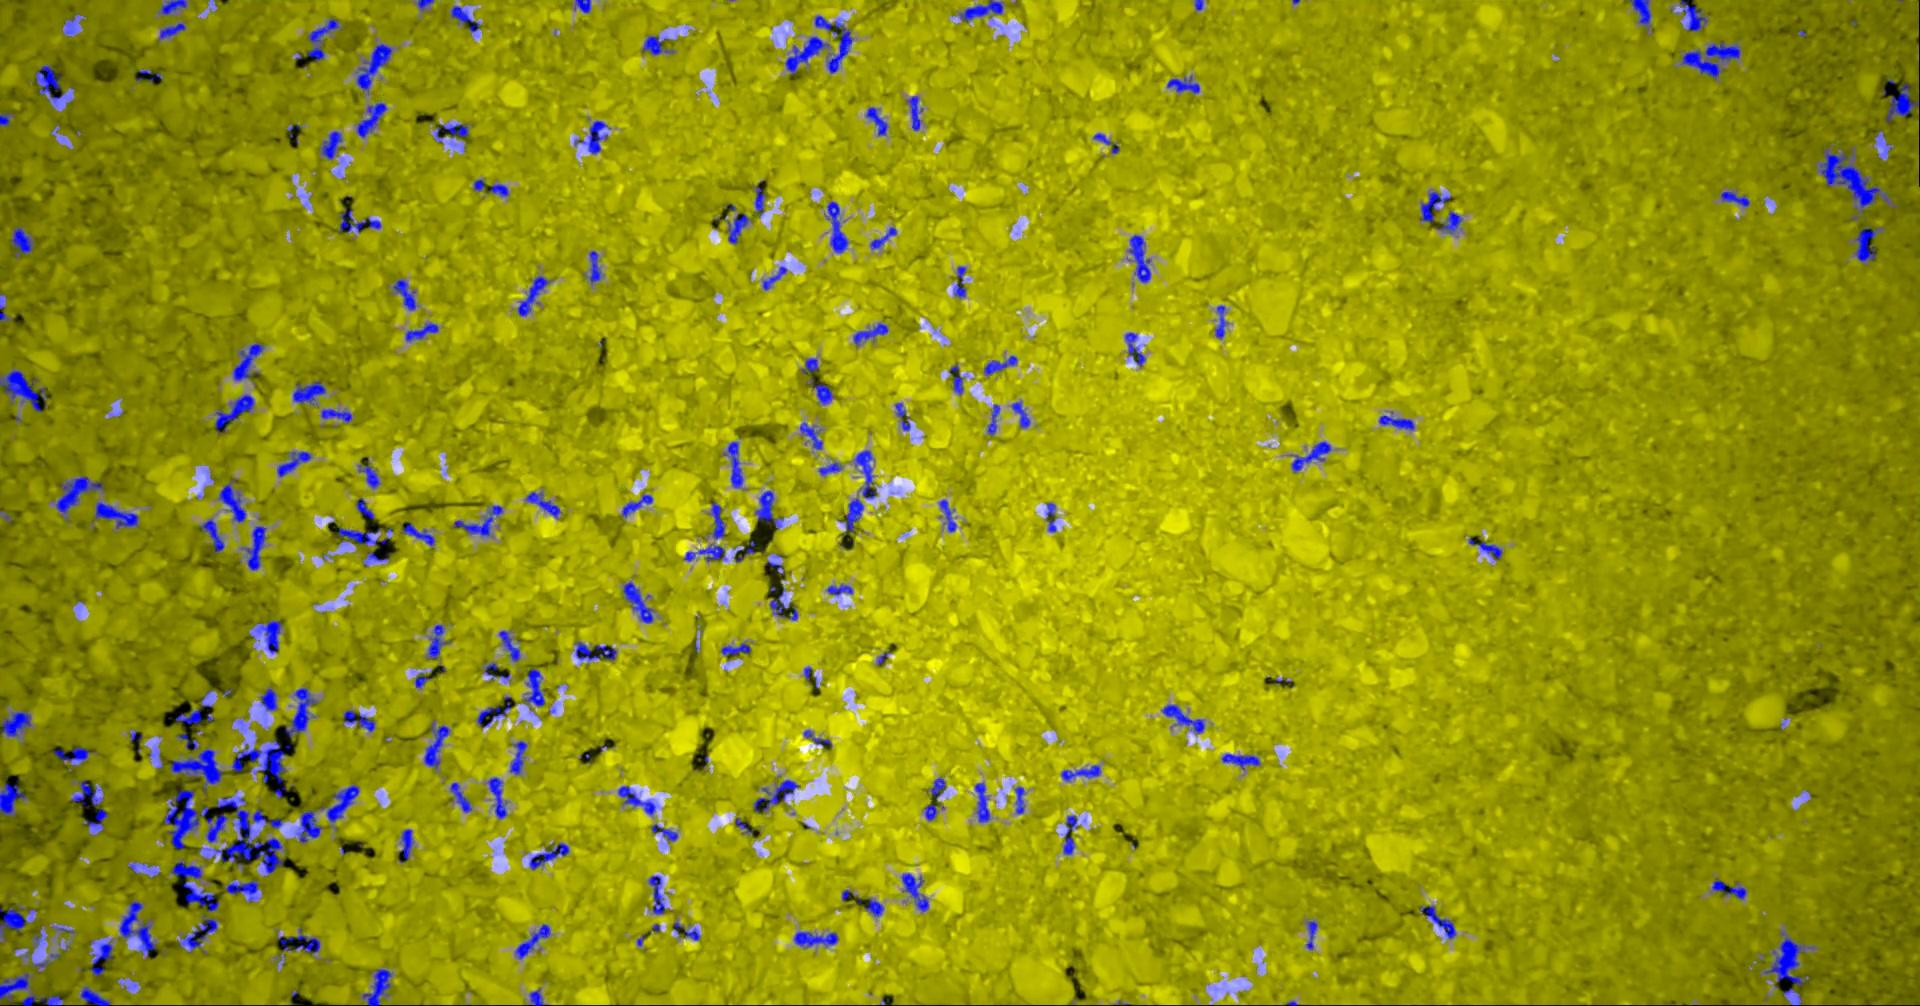ant: (231, 739, 290, 798), (170, 860, 218, 911), (1763, 936, 1813, 984), (169, 748, 222, 793), (1679, 41, 1740, 79), (814, 15, 852, 72), (119, 901, 155, 956), (70, 780, 107, 832), (0, 370, 46, 412), (55, 475, 103, 514), (356, 43, 391, 94), (785, 36, 828, 74), (283, 687, 316, 737), (753, 779, 799, 812), (215, 394, 253, 433), (319, 784, 359, 821), (453, 506, 502, 536), (801, 357, 832, 404), (178, 915, 216, 951), (277, 927, 319, 960), (307, 17, 338, 61), (1884, 83, 1919, 121), (1161, 704, 1204, 733), (517, 276, 549, 315), (94, 500, 138, 528), (622, 582, 653, 622), (423, 723, 450, 768), (1418, 904, 1455, 937), (574, 119, 610, 152), (1291, 441, 1330, 471), (240, 525, 265, 570), (218, 479, 245, 522), (516, 923, 549, 958), (232, 343, 263, 380), (361, 968, 391, 1005), (34, 64, 63, 102), (617, 785, 655, 814), (1128, 234, 1150, 282), (825, 201, 847, 251), (356, 102, 386, 137), (338, 207, 380, 232), (754, 490, 782, 528), (1418, 191, 1451, 222), (476, 696, 510, 727), (855, 450, 876, 498), (530, 842, 568, 869), (902, 873, 928, 911), (1854, 226, 1883, 260), (957, 0, 1002, 22), (770, 586, 797, 620), (337, 526, 386, 545), (276, 451, 311, 476), (524, 492, 560, 517), (924, 777, 945, 821), (723, 441, 742, 486), (839, 498, 863, 533), (0, 972, 29, 1001), (296, 810, 323, 842), (0, 782, 25, 815), (0, 906, 25, 939), (199, 518, 223, 553), (427, 624, 451, 658), (89, 941, 113, 976), (523, 668, 545, 706), (1679, 0, 1705, 30), (574, 641, 616, 661), (257, 620, 281, 653), (853, 323, 888, 345), (450, 5, 480, 30), (0, 710, 30, 735), (223, 879, 259, 901), (292, 380, 325, 403), (401, 522, 434, 545), (52, 747, 94, 765), (683, 544, 724, 561), (488, 777, 505, 818), (1710, 879, 1746, 899), (1468, 537, 1501, 559), (1060, 763, 1100, 781), (648, 875, 665, 915), (10, 226, 33, 257), (392, 279, 415, 310), (1124, 332, 1144, 366), (621, 494, 651, 517), (792, 931, 837, 946), (865, 105, 888, 135), (728, 212, 749, 243), (498, 630, 519, 661), (343, 710, 375, 730), (320, 130, 342, 159), (450, 782, 471, 812), (436, 123, 469, 142), (983, 354, 1016, 373), (870, 226, 897, 249), (799, 422, 822, 448), (79, 986, 110, 1005), (974, 782, 989, 822), (358, 459, 378, 488), (1166, 75, 1199, 93), (405, 323, 438, 340), (762, 265, 786, 290), (1378, 415, 1415, 431), (1222, 753, 1258, 768), (643, 36, 672, 55), (1437, 210, 1462, 232), (1628, 0, 1650, 25), (509, 741, 526, 774), (1063, 815, 1077, 854), (22, 992, 63, 1005), (938, 499, 955, 531), (907, 95, 922, 130), (733, 539, 756, 561), (397, 828, 413, 862), (710, 502, 724, 539), (803, 729, 830, 747), (1093, 133, 1119, 152), (1010, 401, 1029, 427), (894, 401, 910, 431), (484, 662, 509, 680), (1719, 191, 1749, 206), (159, 22, 185, 38), (174, 708, 201, 724), (320, 408, 350, 422), (651, 823, 677, 840), (949, 365, 963, 394), (159, 0, 185, 15), (356, 497, 373, 520), (588, 250, 601, 282), (952, 265, 965, 297), (260, 687, 277, 711), (987, 404, 999, 434), (720, 643, 750, 655), (1214, 305, 1225, 338), (177, 732, 197, 749), (135, 69, 163, 81), (754, 180, 764, 215), (734, 817, 753, 835), (863, 898, 883, 916), (1305, 920, 1317, 949), (818, 462, 842, 475), (825, 584, 852, 594), (1046, 502, 1055, 531), (489, 183, 508, 196), (1015, 786, 1023, 813), (414, 672, 429, 687), (530, 988, 543, 1005), (0, 293, 8, 320), (367, 551, 390, 560), (574, 0, 590, 11), (0, 112, 13, 126), (683, 929, 698, 940), (417, 0, 434, 9), (65, 15, 74, 33), (472, 179, 485, 191)
